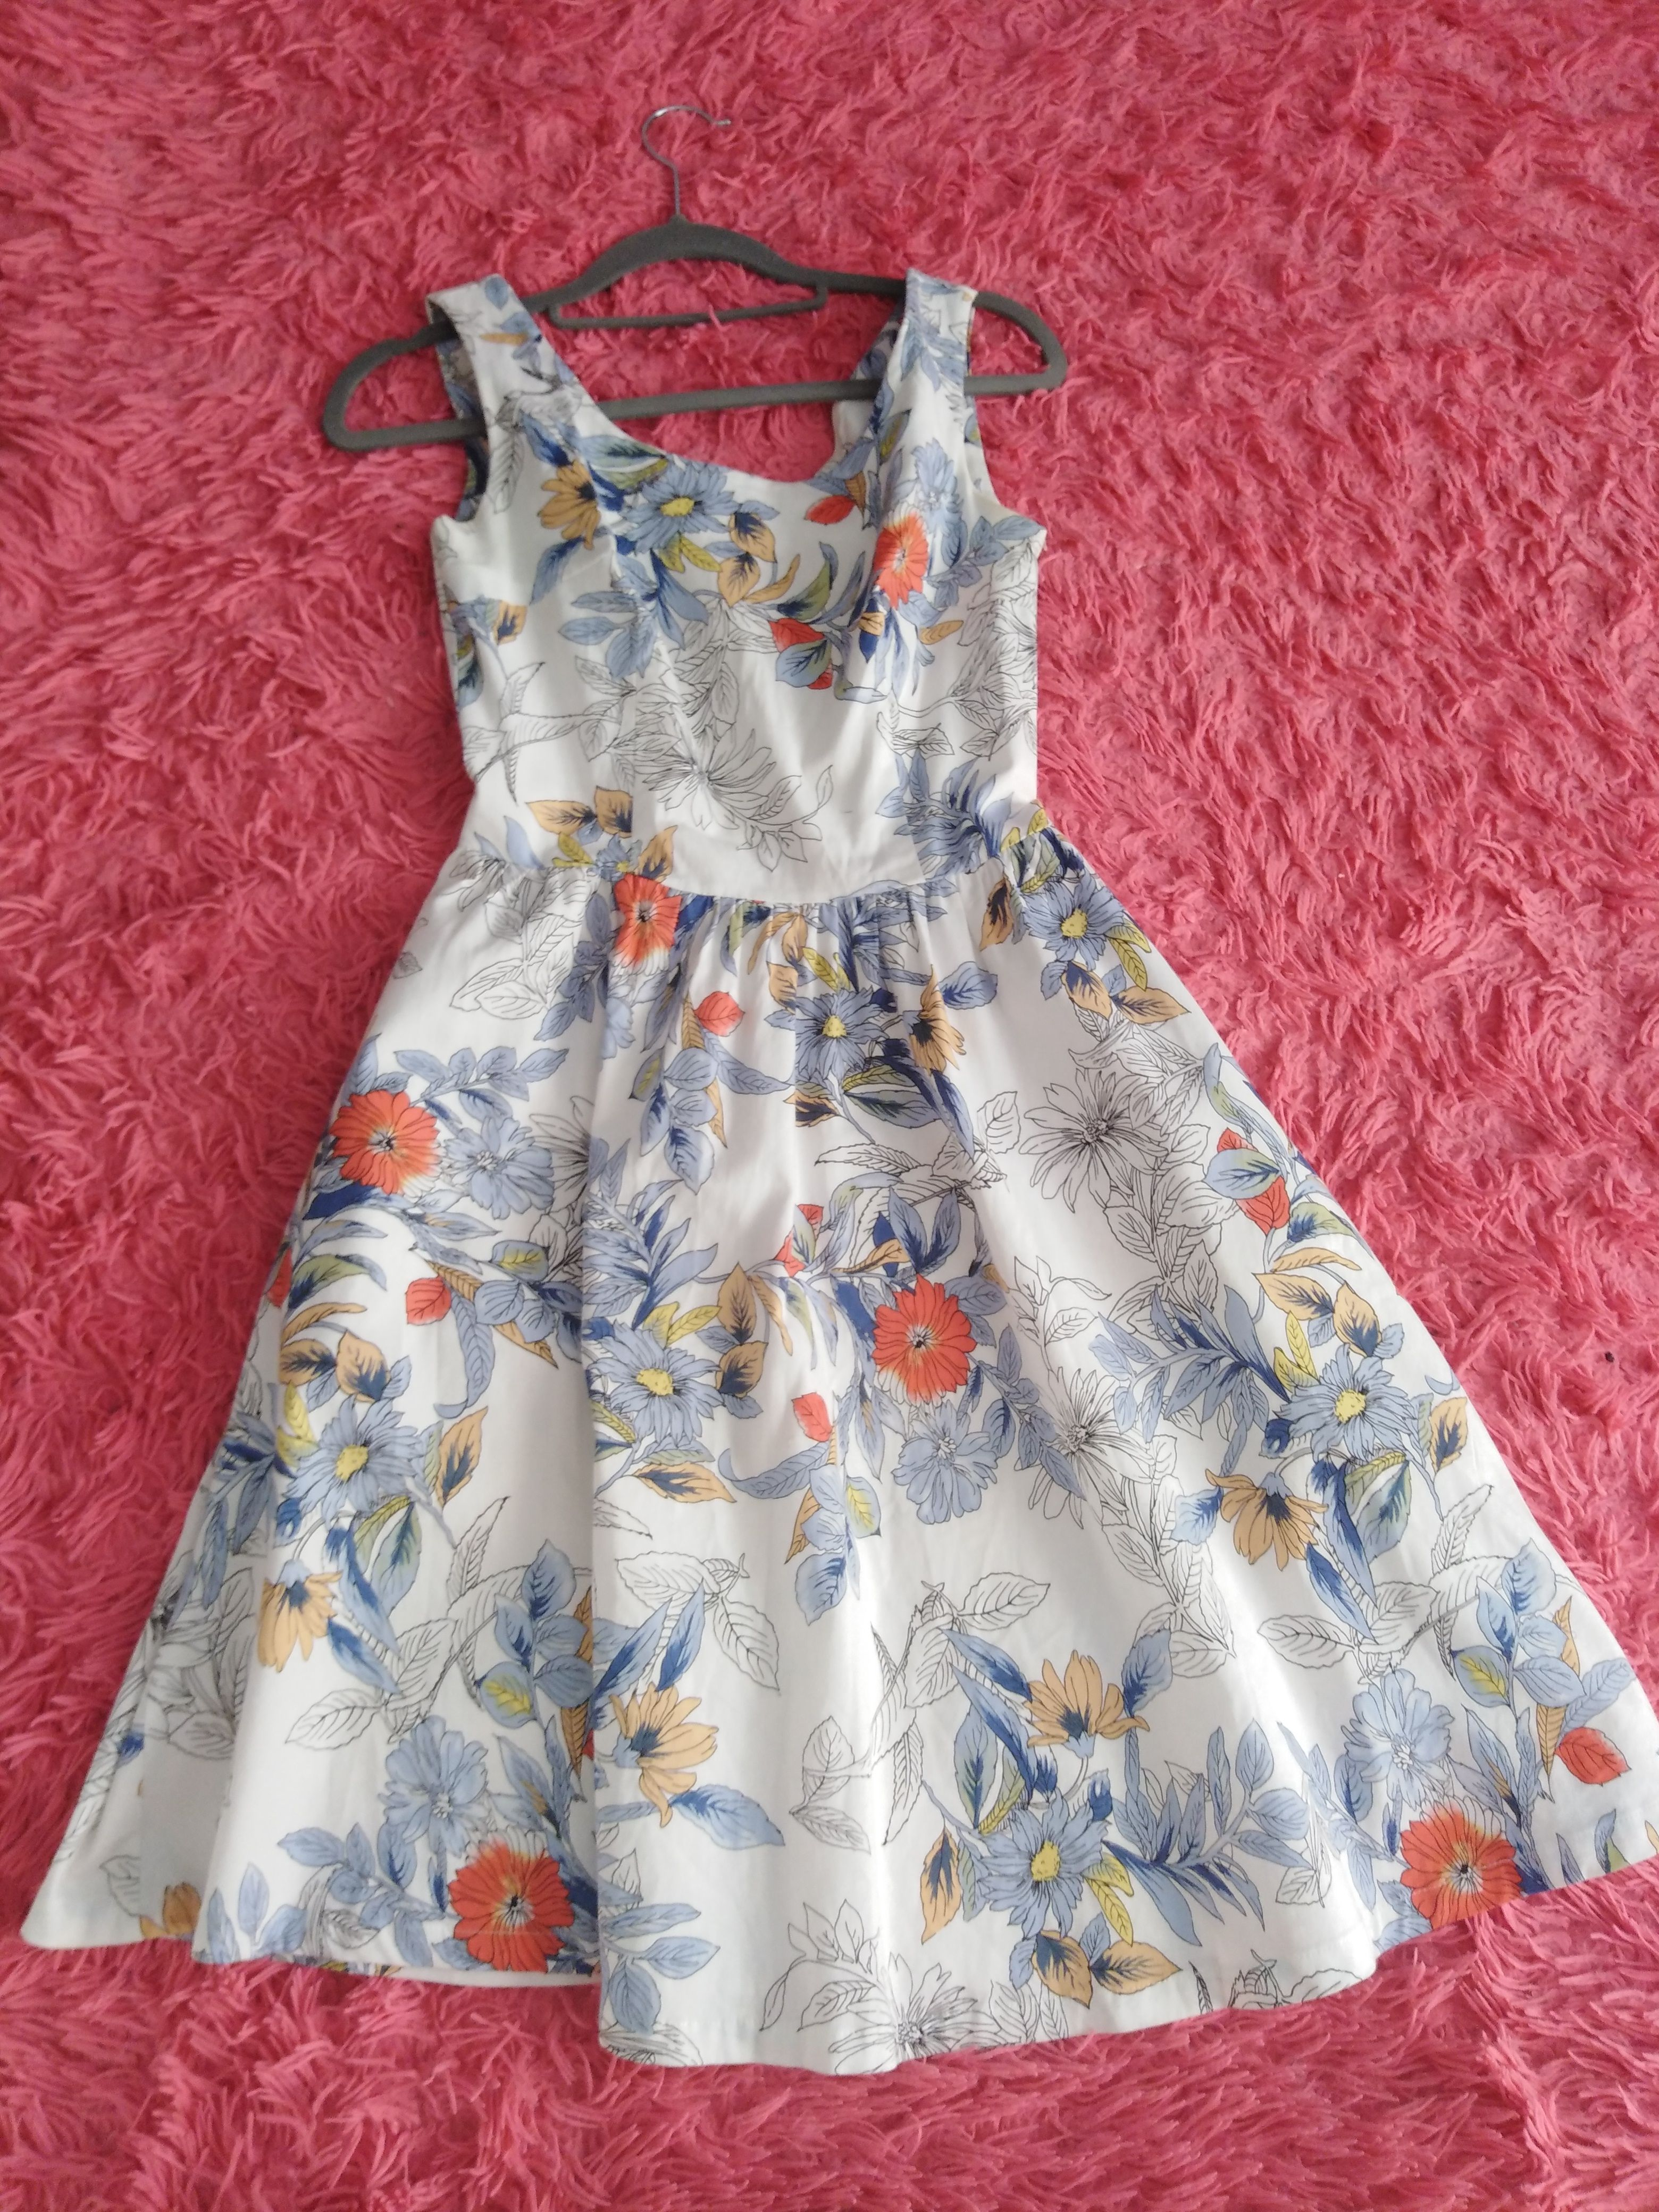clothes: (26, 258, 1640, 2109)
